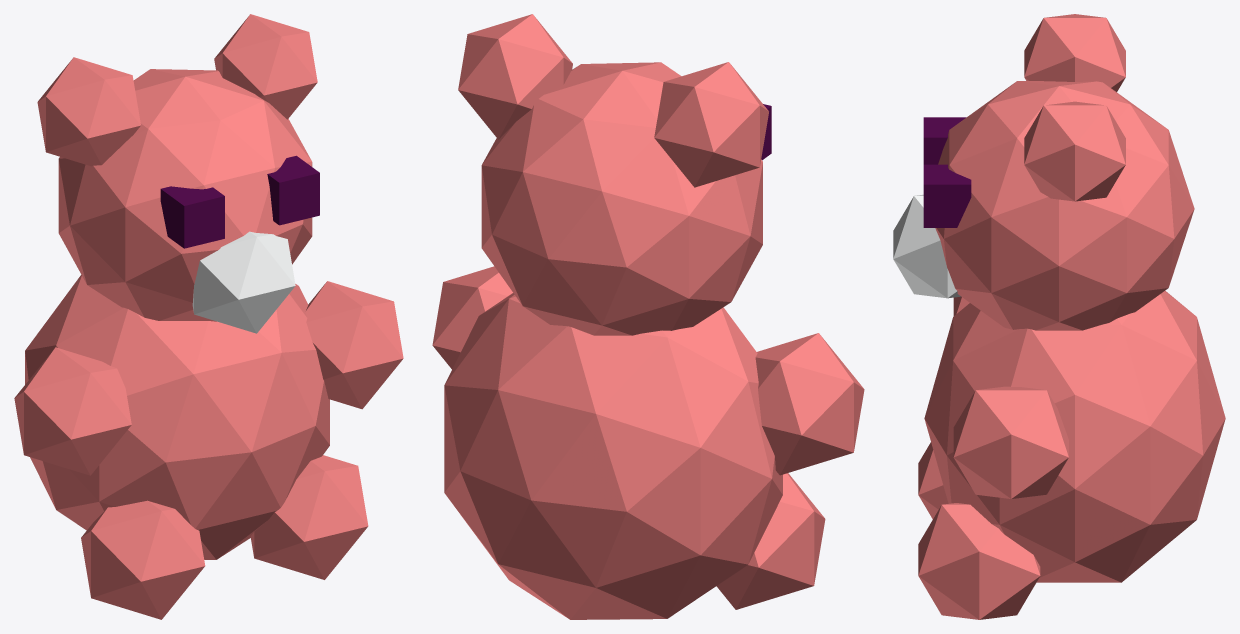
Rendered from bear.glb.
3 renders of one model, left to right at view 1: azimuth 30°, elevation 25°; view 2: azimuth 150°, elevation 25°; view 3: azimuth 270°, elevation 25°, orthographic. The views are drawn at different scales.
Parts seen in each view (by area): view 1: Body, Head, LegL, ArmL, LegR, ArmR, EarL, Snout, EarR, EyeL, EyeR; view 2: Body, Head, ArmL, EarL, EarR, LegL, ArmR; view 3: Body, Head, ArmR, LegR, EarR, EarL, Snout, EyeR, LegL, EyeL.
Boxes of the visible parts, box(x1,y1,x2,y2) form: Body: box(25, 274, 329, 559); Head: box(58, 69, 312, 321); LegL: box(81, 500, 205, 619); ArmL: box(14, 347, 131, 475); LegR: box(250, 455, 368, 579); ArmR: box(305, 281, 403, 409); EarL: box(37, 57, 140, 166); Snout: box(192, 231, 295, 333); EarR: box(214, 14, 317, 119); EyeL: box(160, 186, 224, 248); EyeR: box(267, 155, 319, 225); Body: box(444, 293, 782, 619); Head: box(481, 62, 762, 335); ArmL: box(755, 333, 864, 475); EarL: box(654, 62, 768, 187); EarR: box(458, 14, 572, 139); LegL: box(716, 473, 825, 609); ArmR: box(432, 266, 512, 369); Body: box(924, 290, 1225, 582); Head: box(935, 81, 1194, 330); ArmR: box(953, 386, 1068, 498); LegR: box(918, 503, 1040, 619); EarR: box(1024, 101, 1125, 201); EarL: box(1024, 14, 1125, 91); Snout: box(893, 194, 960, 298); EyeR: box(923, 164, 971, 227); LegL: box(918, 442, 948, 519); EyeL: box(923, 117, 966, 164).
Bounding box in the file's own units: 0.5446 × 0.7143 × 0.4171.
